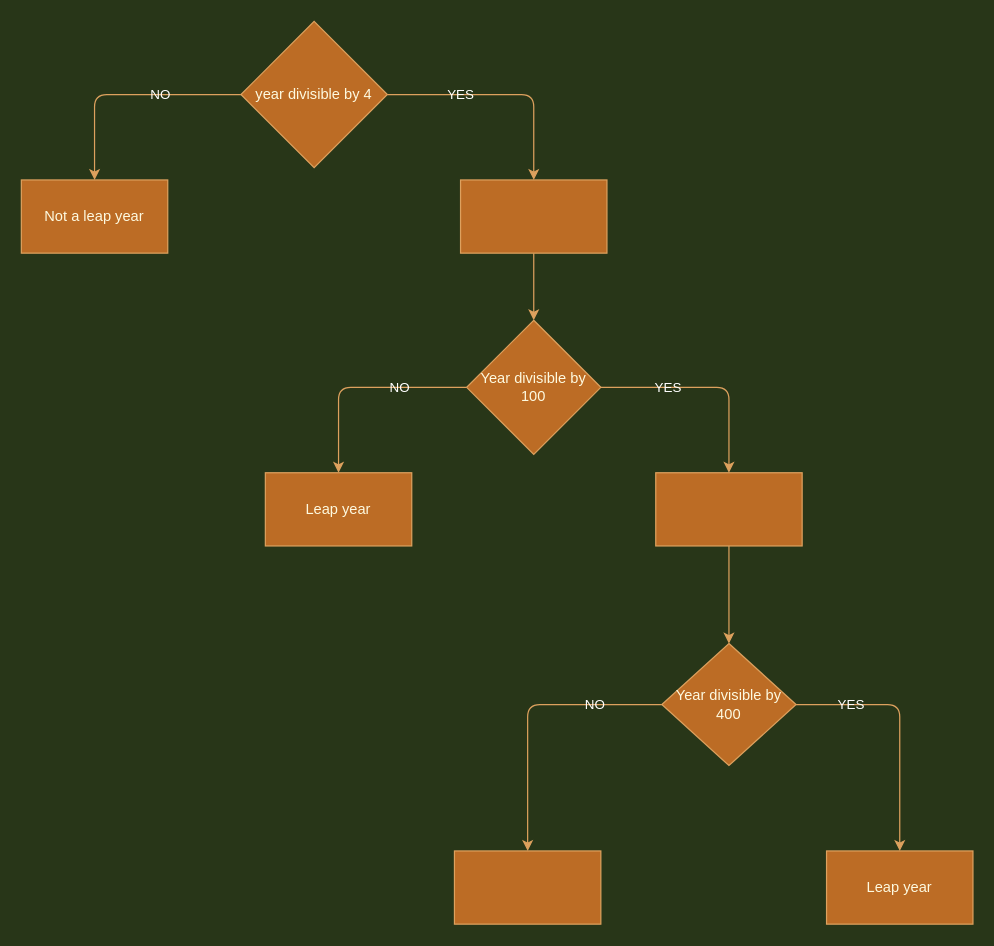
Some shapes in this 994 by 946 pixel diagram are drawn without their labels. The shapes that lost their labels are listed below. From the top down, each one's centre as x and y in pixels, then its label:
At point 533,216: "Further check".
At point 728,509: "Not a leap year unless...".
At point 527,887: "Not leap".
